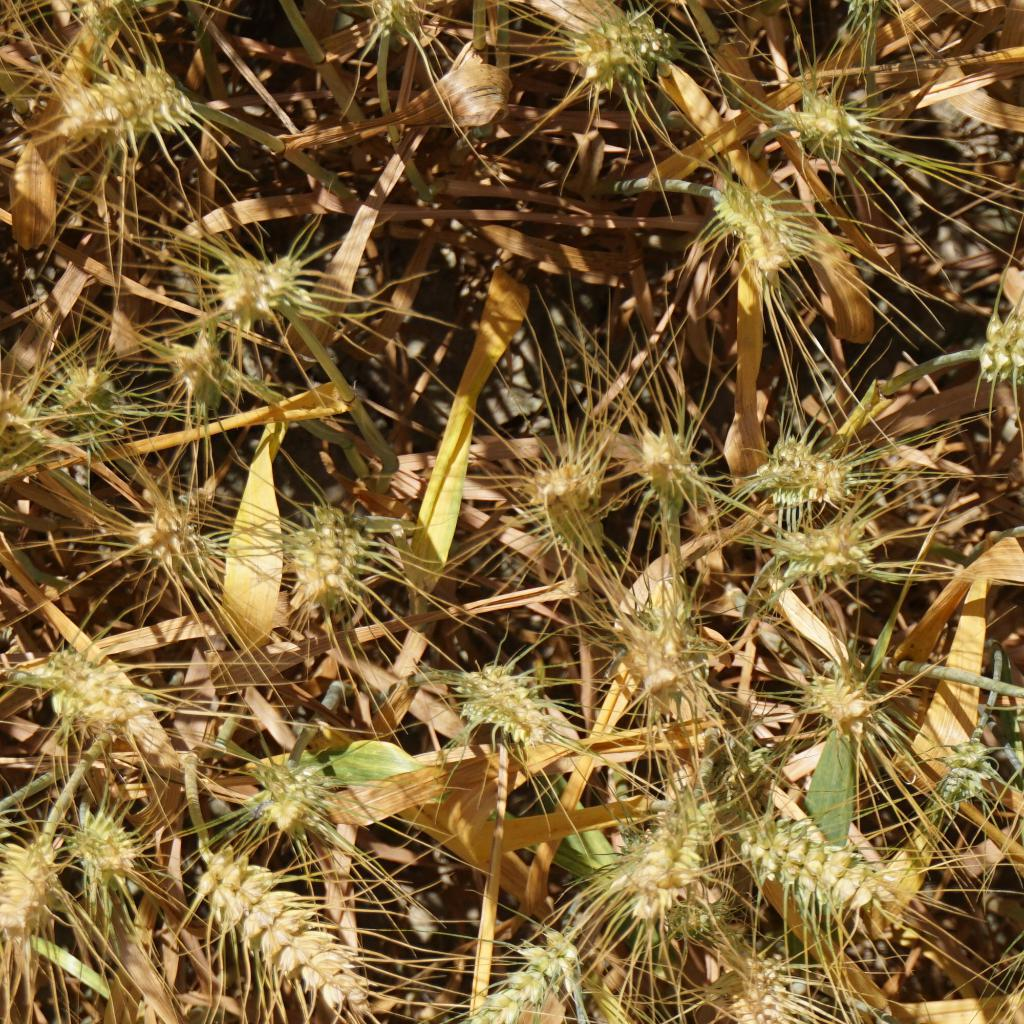0-0: (173, 837, 381, 1024), (595, 762, 728, 909), (732, 781, 872, 915), (5, 636, 162, 735), (504, 435, 623, 563), (453, 913, 587, 1024), (235, 732, 358, 846), (273, 504, 382, 630), (453, 647, 568, 762), (54, 51, 190, 145), (696, 182, 817, 275), (561, 0, 691, 86), (60, 806, 158, 903), (224, 239, 316, 327), (755, 433, 854, 509), (624, 600, 695, 702), (808, 645, 883, 733), (779, 92, 869, 158), (721, 943, 793, 1024), (0, 365, 58, 459), (977, 294, 1024, 407), (772, 524, 862, 577), (0, 836, 44, 940), (139, 503, 216, 562), (641, 431, 704, 503), (932, 733, 992, 806), (54, 359, 121, 422), (166, 333, 231, 394), (368, 0, 442, 47), (665, 892, 721, 932), (900, 1011, 990, 1024)
